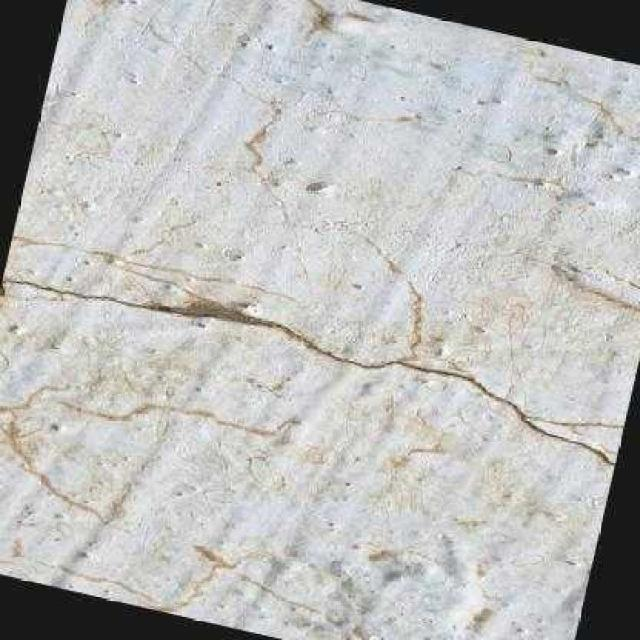D00: (0, 276, 616, 470)
